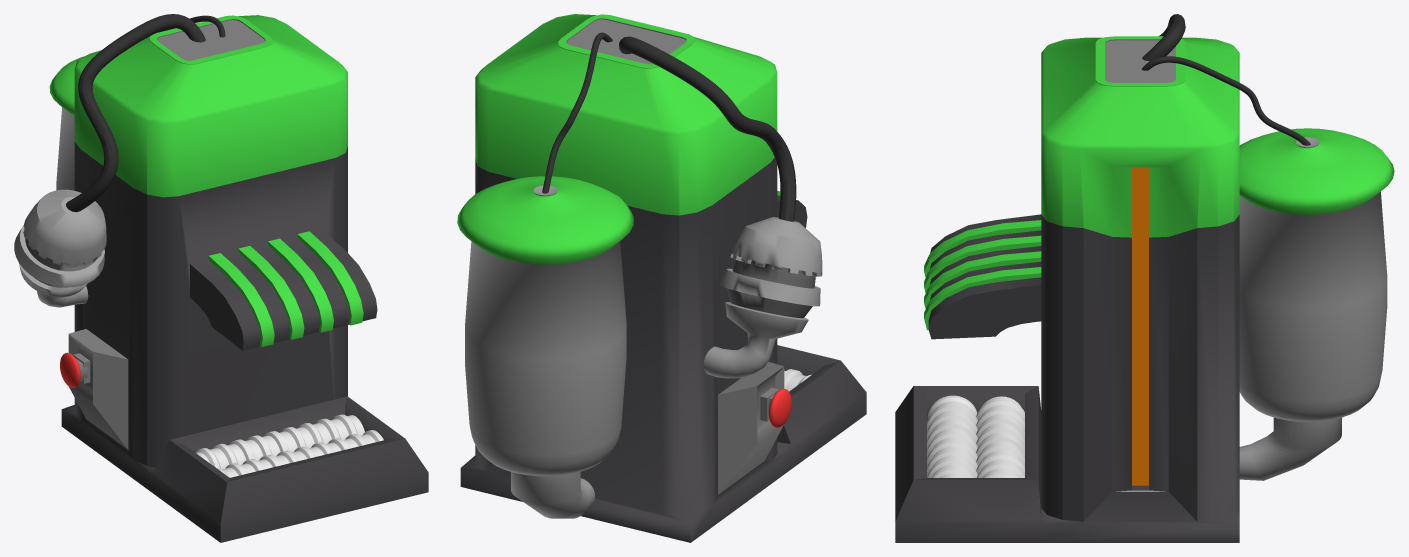
Rendered from central_biomasse.glb.
The picture shows the model from 3 angles, left to right: view 1: azimuth 30°, elevation 25°; view 2: azimuth 150°, elevation 25°; view 3: azimuth 270°, elevation 25°; orthographic projection. The views are drawn at different scales.
Visible parts, largest first — view 1: central, broyeuse, broyeuse.001; view 2: central; view 3: central, broyeuse.001, broyeuse.
Part boxes in pixels (left/top/right/bottom): central: left=14, top=14, right=428, bottom=542; broyeuse: left=196, top=414, right=364, bottom=469; broyeuse.001: left=217, top=430, right=383, bottom=477; central: left=457, top=14, right=866, bottom=542; central: left=895, top=14, right=1394, bottom=542; broyeuse.001: left=927, top=395, right=977, bottom=477; broyeuse: left=976, top=396, right=1024, bottom=477.
Size of the model in its own units: 3.5 by 4.86 by 4.91.
